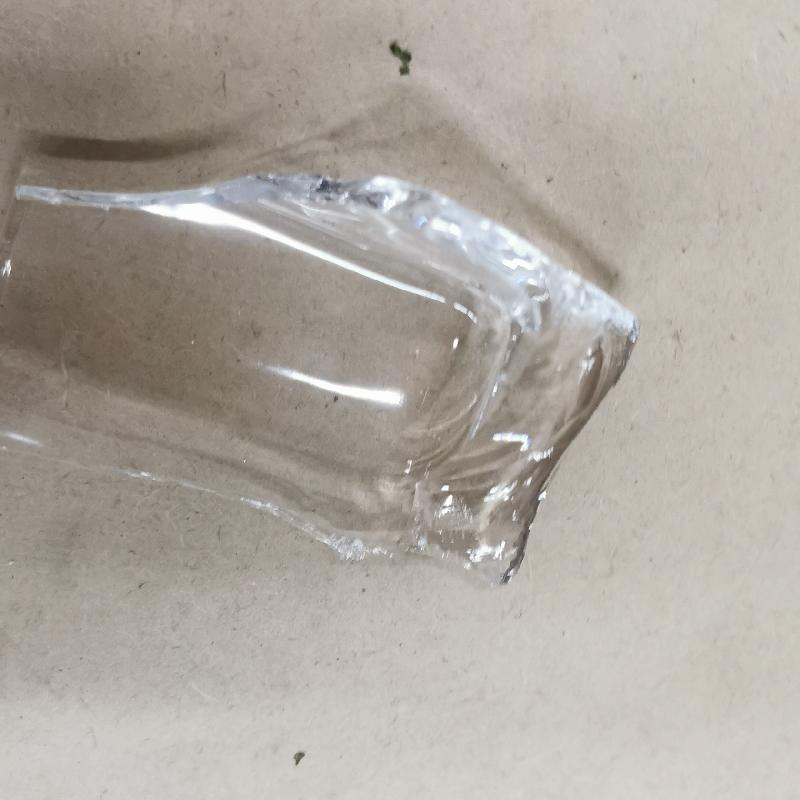glass: (8, 162, 637, 583)
